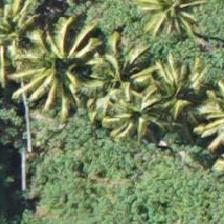coconut_tree: (80, 60, 170, 150), (0, 21, 89, 111), (136, 40, 223, 130), (114, 0, 204, 56)
